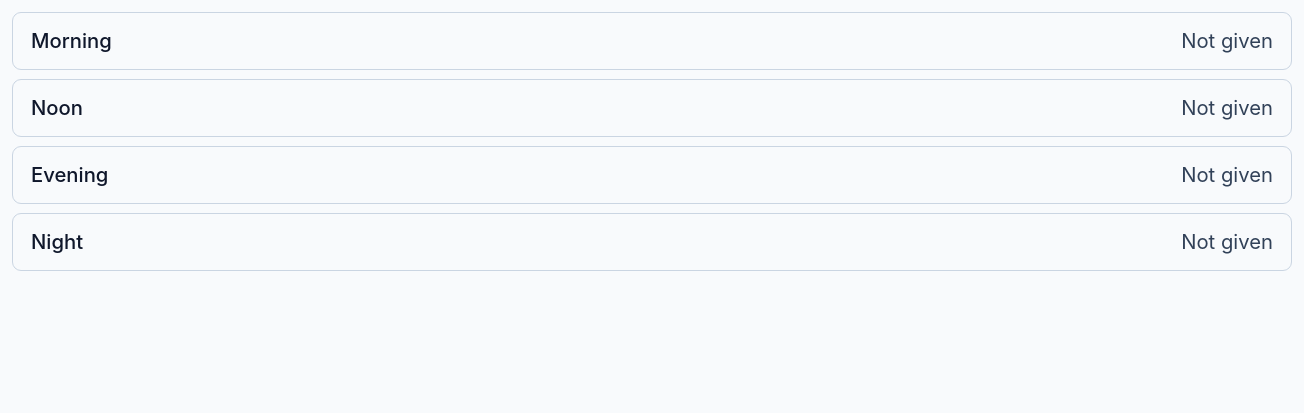
Scenario: DoseTimeList freeText variant (non-tablet forms) › stores a typed amount and displays it without tablet wording
The width and height of the screenshot is (1304, 413).
Step 1. Click the button "Morning Not given" → (71, 41), box [13, 13, 1291, 69]
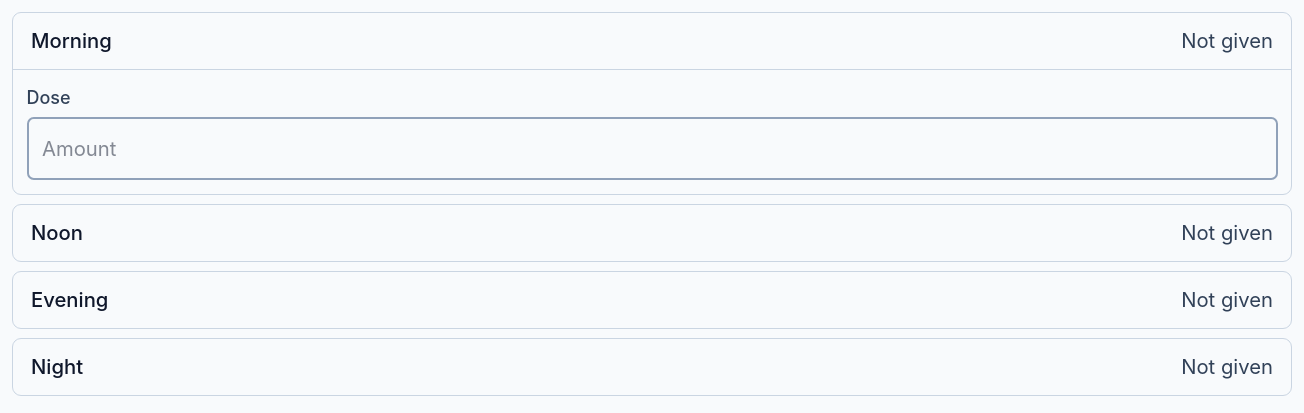
Step 2. Type "5" into the field named "Morning: dose" → (652, 149), box [26, 117, 1278, 180]
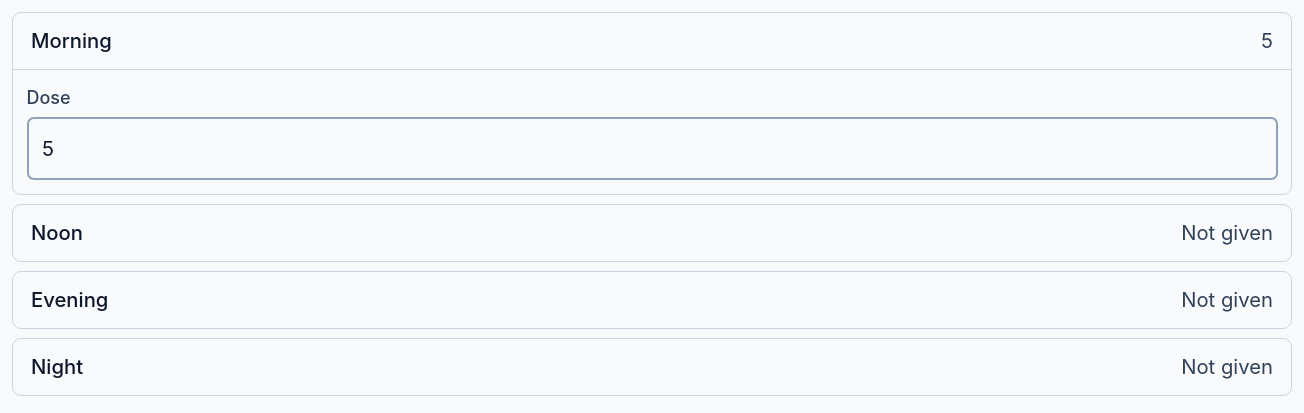
Check: the button with aria-label "Morning, 5" is shown, box [13, 13, 1291, 69]
